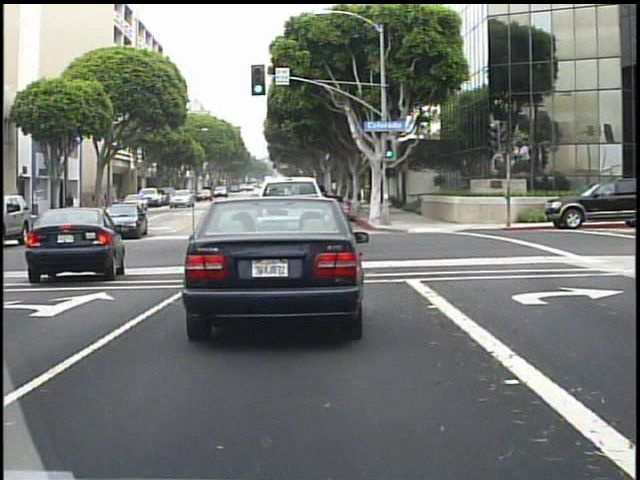person: (63, 188, 81, 221)
